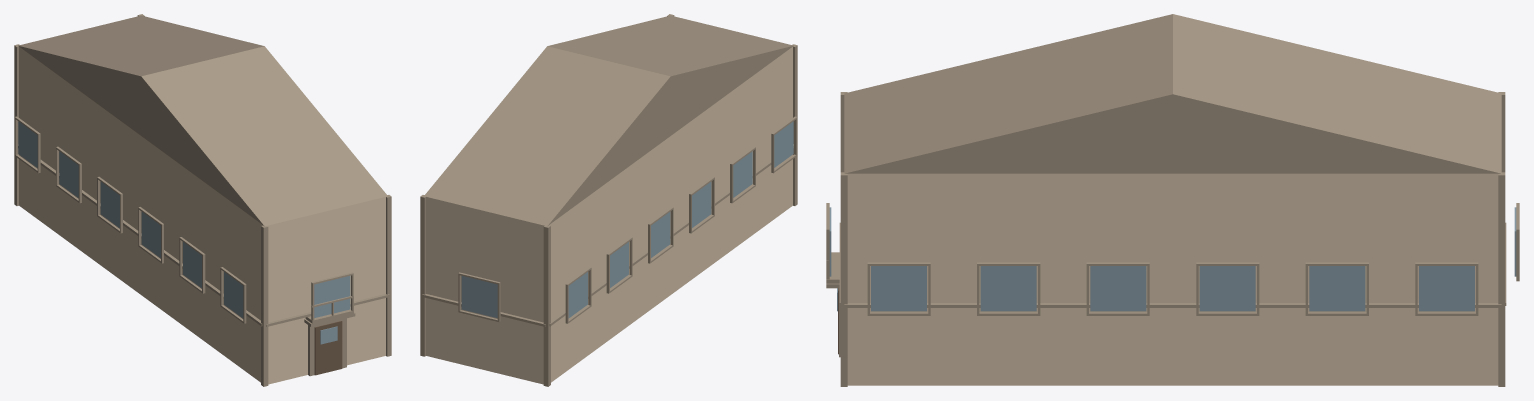
File: lot_1x3_gable.glb
3 views of the same model, side by side, from view 1: azimuth 30°, elevation 25°; view 2: azimuth 150°, elevation 25°; view 3: azimuth 270°, elevation 25° (orthographic). The views are drawn at different scales.
Visible parts, largest first — view 1: lot_1x3_gable; view 2: lot_1x3_gable; view 3: lot_1x3_gable.
Part boxes in pixels (box(x1,y1,x2,y2)): lot_1x3_gable: box(14, 14, 391, 386); lot_1x3_gable: box(420, 14, 797, 386); lot_1x3_gable: box(826, 14, 1519, 386).
Size of the model in its own units: 7.74 by 11 by 23.74.
